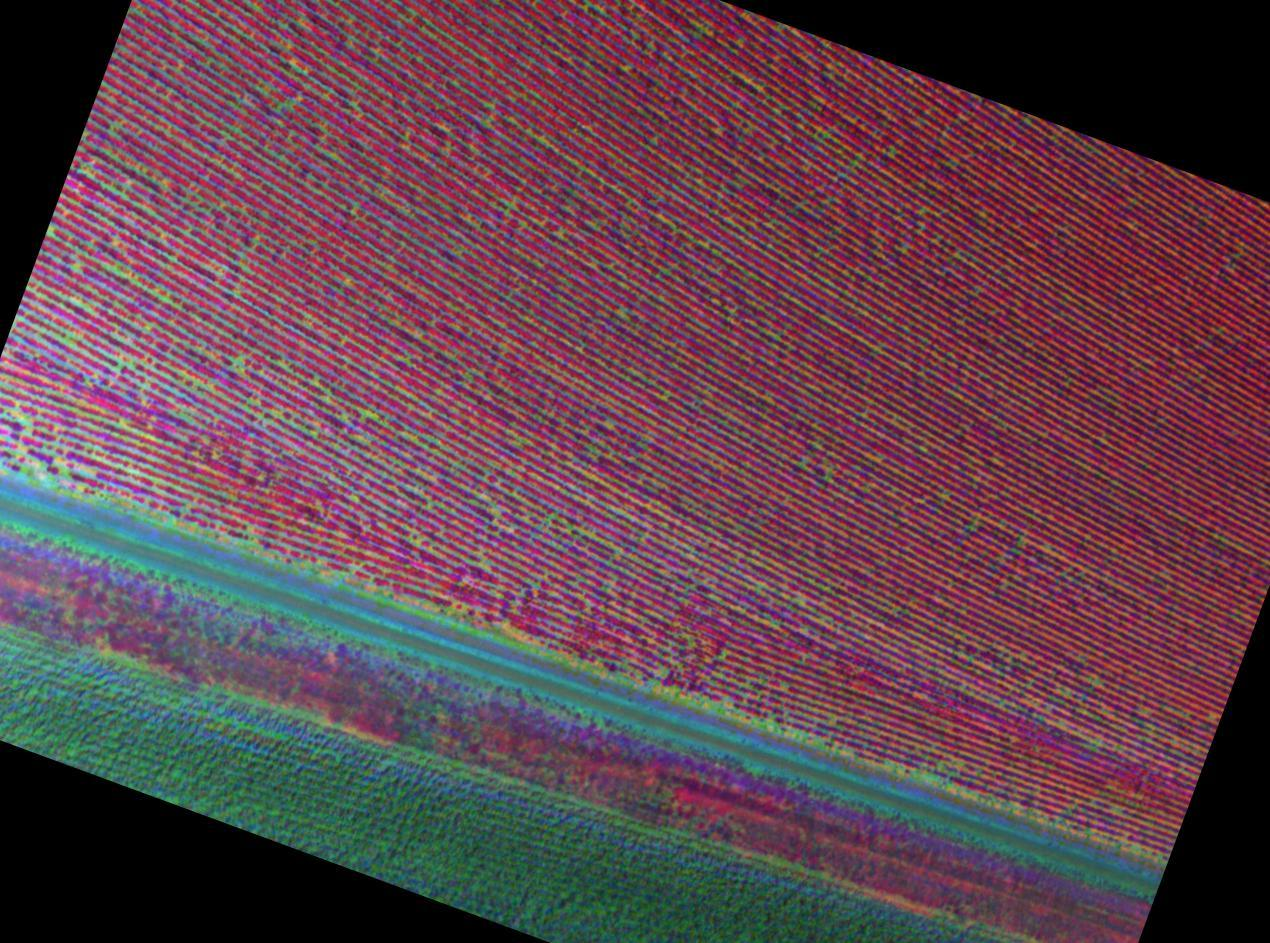dc: (509, 203, 514, 208), (661, 397, 664, 399)
